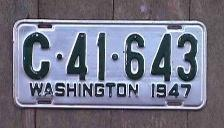1: (94, 30, 109, 82)
3: (175, 32, 199, 82)
4: (65, 30, 90, 81), (149, 32, 174, 82)
6: (122, 31, 147, 81)
C: (23, 30, 53, 81)
